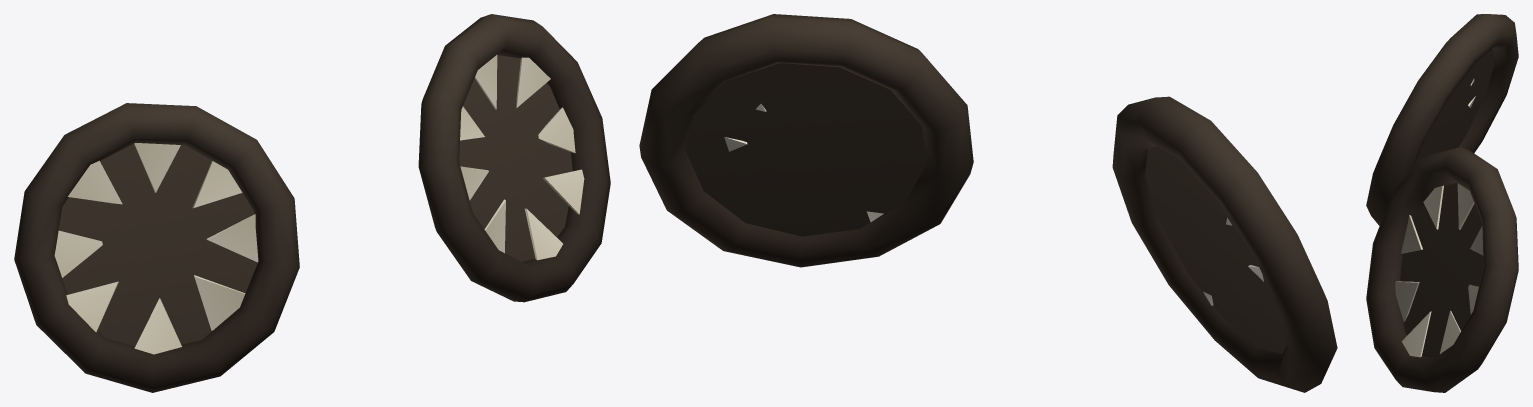
File: devil_eye1.fbx
The picture shows the model from 3 angles, left to right: view 1: azimuth 30°, elevation 25°; view 2: azimuth 150°, elevation 25°; view 3: azimuth 270°, elevation 25°; orthographic projection. The views are drawn at different scales.
Parts seen in each view (by area): view 1: eyes2_group1_polySurface1; view 2: eyes2_group1_polySurface1; view 3: eyes2_group1_polySurface1.
Boxes of the visible parts, bbox=[...] form: eyes2_group1_polySurface1: bbox=[14, 14, 610, 392]; eyes2_group1_polySurface1: bbox=[639, 14, 1337, 392]; eyes2_group1_polySurface1: bbox=[1366, 14, 1518, 392].
Size of the model in its own units: 1.49 by 0.613 by 0.3975.
